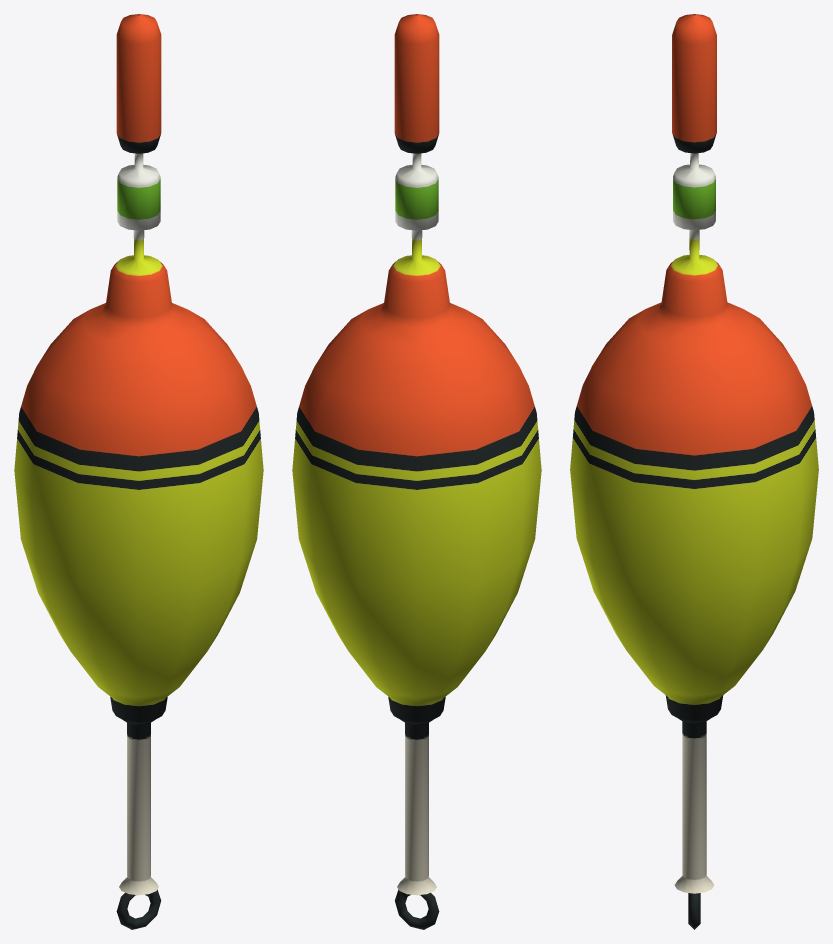
3 renders of one model, left to right at view 1: azimuth 30°, elevation 25°; view 2: azimuth 150°, elevation 25°; view 3: azimuth 270°, elevation 25°, orthographic.
Visible parts, largest first — view 1: F12_Float; view 2: F12_Float; view 3: F12_Float.
Part boxes in pixels (bbox=[...]): F12_Float: bbox=[14, 14, 263, 929]; F12_Float: bbox=[292, 14, 541, 929]; F12_Float: bbox=[570, 14, 818, 929].
Size of the model in its own units: 0.0346 by 0.14 by 0.0346.
1 material, 1 textured.
